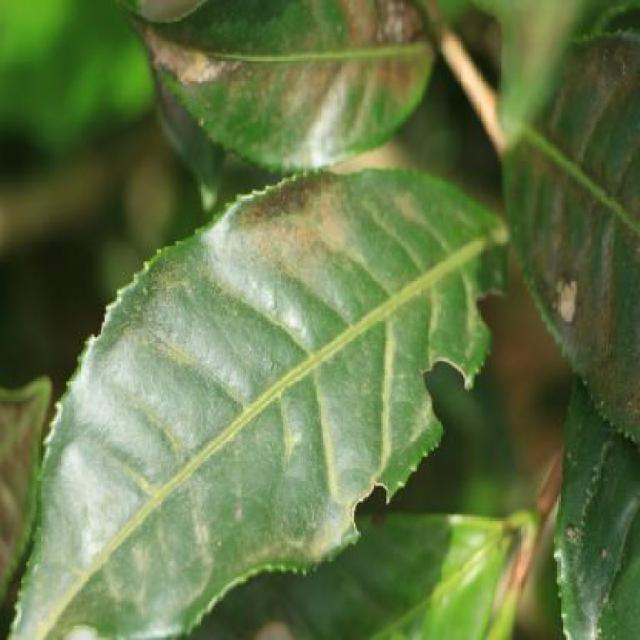Red Spider infested tea leaf: (23, 170, 479, 636), (114, 0, 455, 134)
